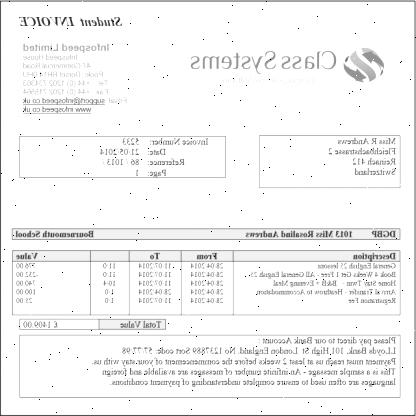Paragraph: (89, 334, 400, 390), (20, 38, 130, 116), (188, 48, 338, 88), (99, 135, 210, 179), (324, 135, 400, 178), (242, 228, 400, 239), (17, 13, 125, 29), (20, 319, 166, 330), (11, 228, 96, 240)
Table: (12, 251, 400, 309)
